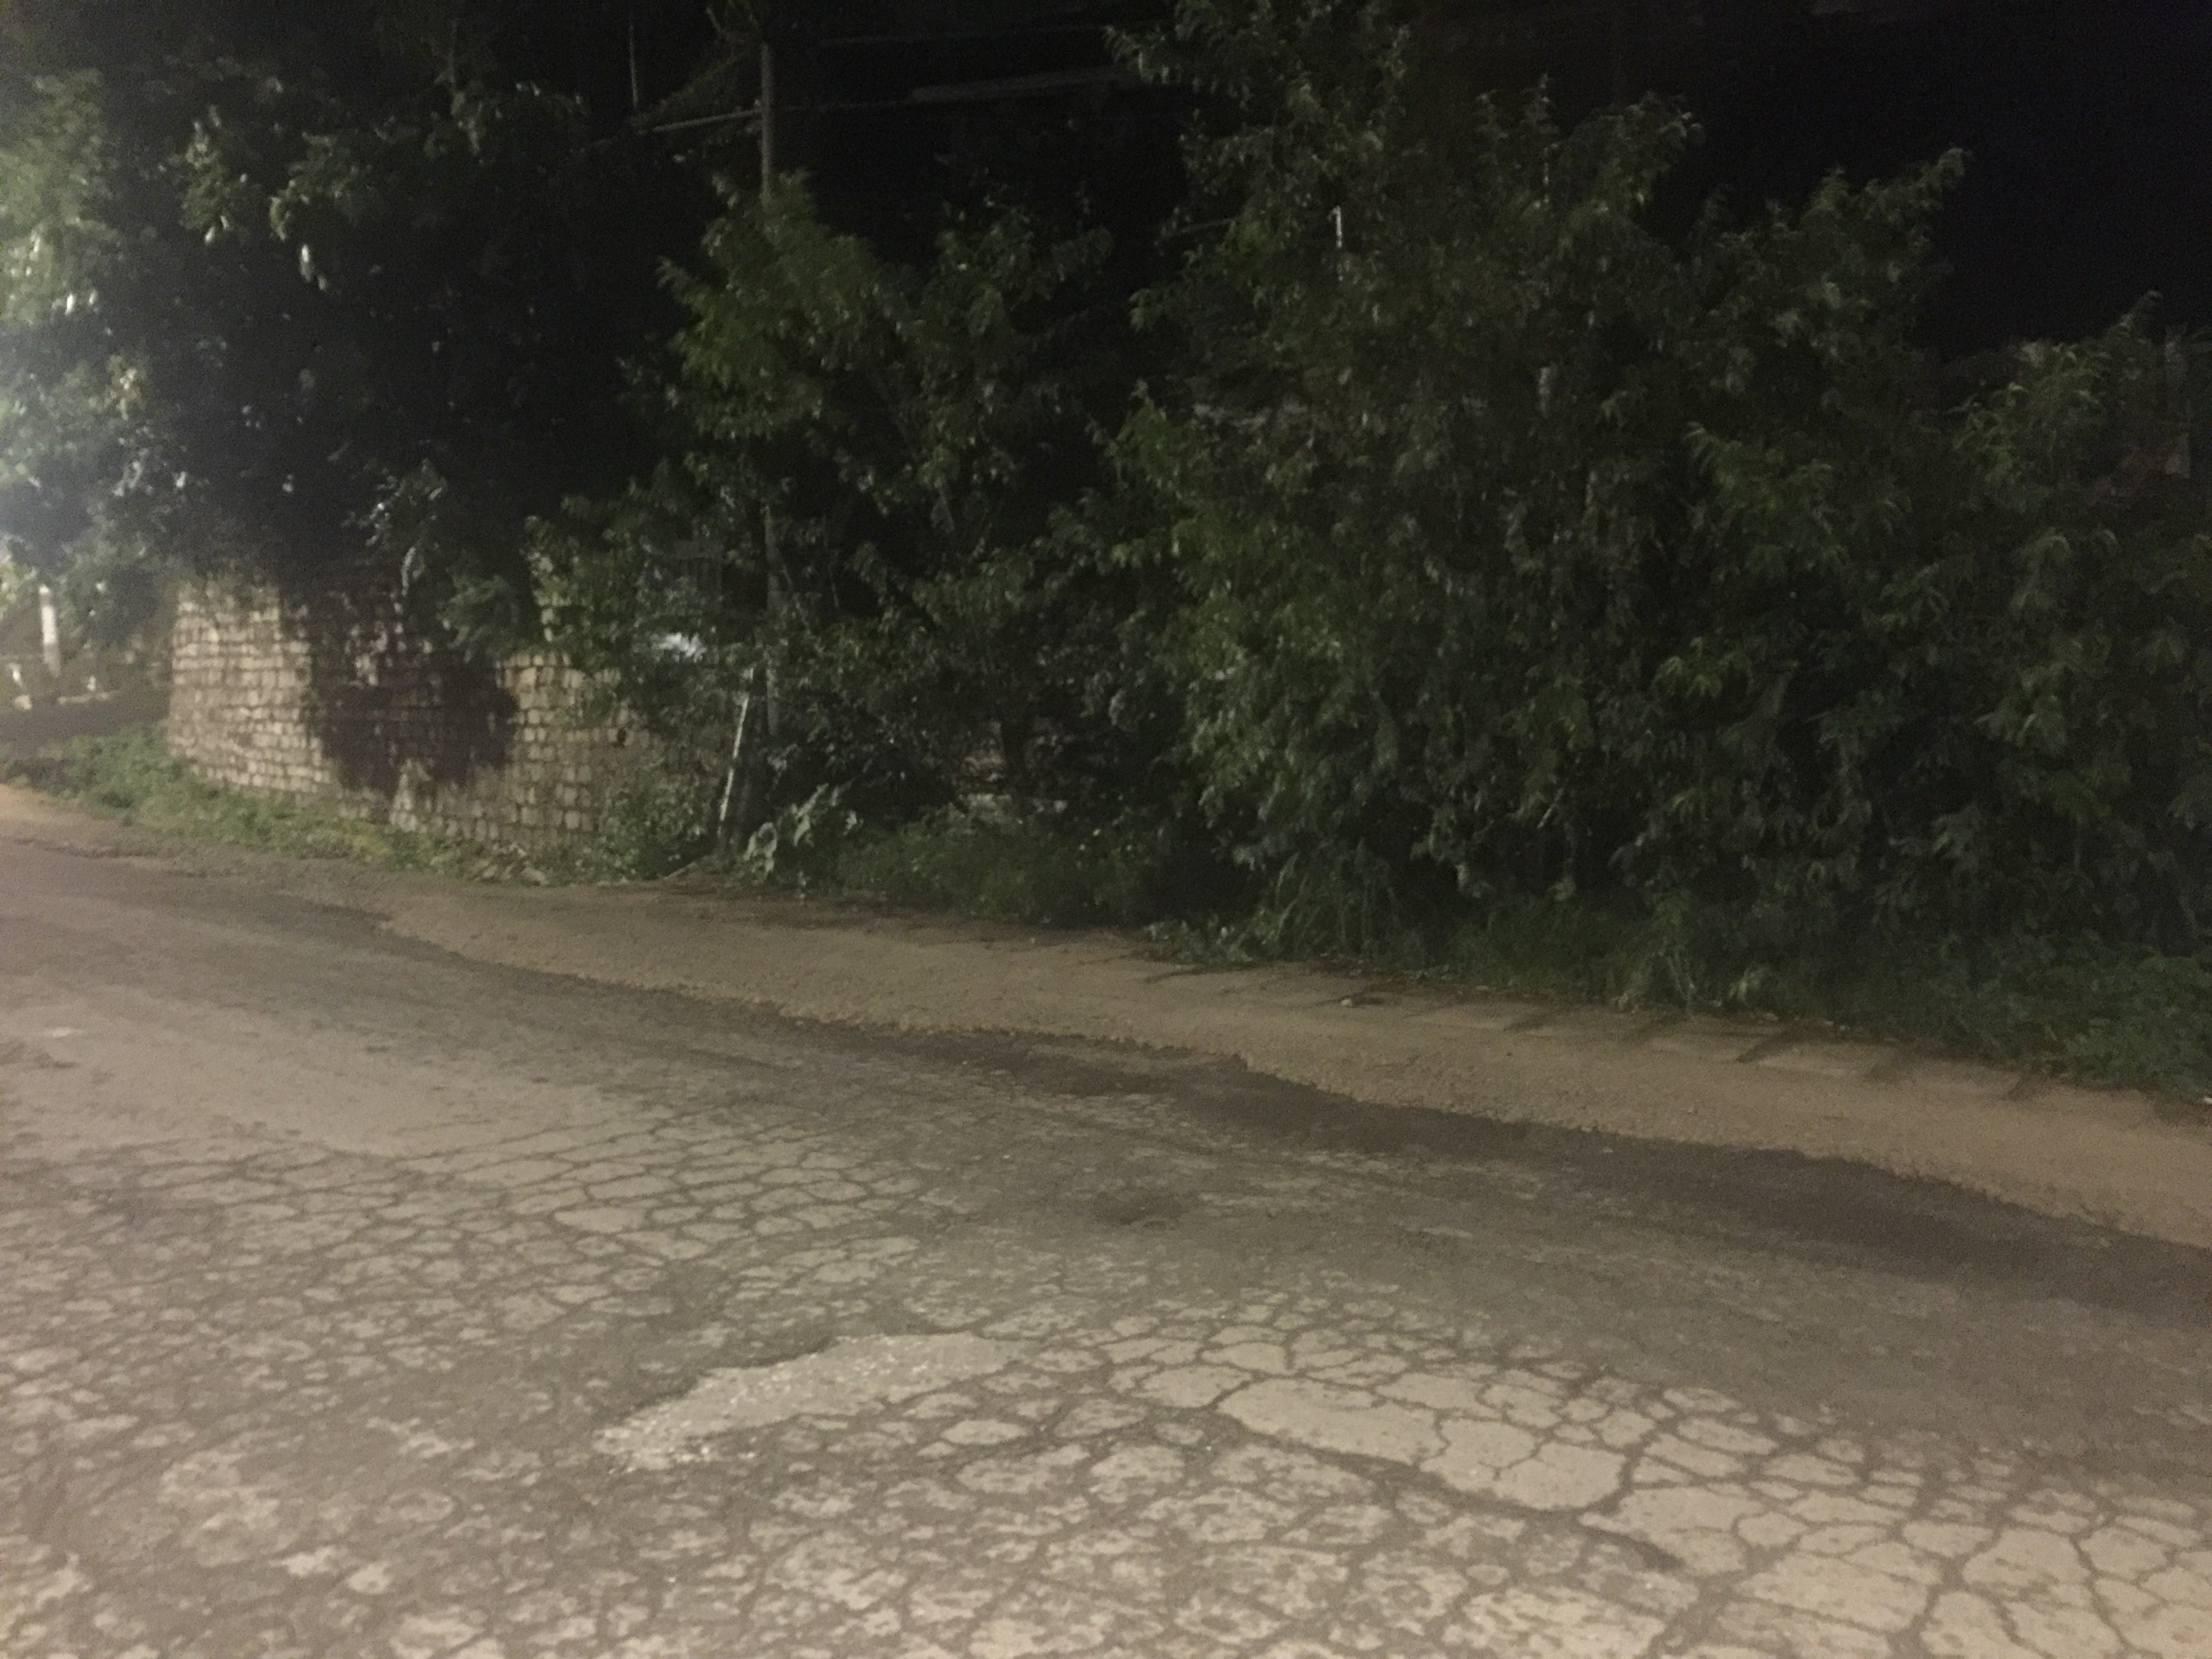hole: (587, 1310, 1047, 1464)
